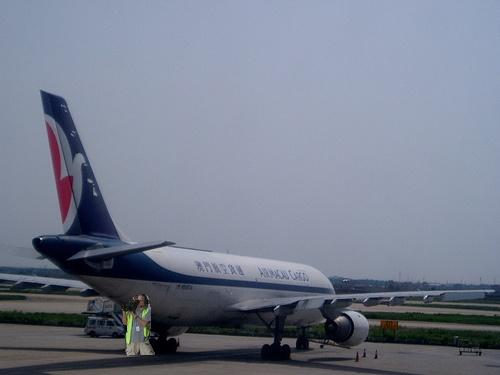tampered: (123, 295, 155, 356)
